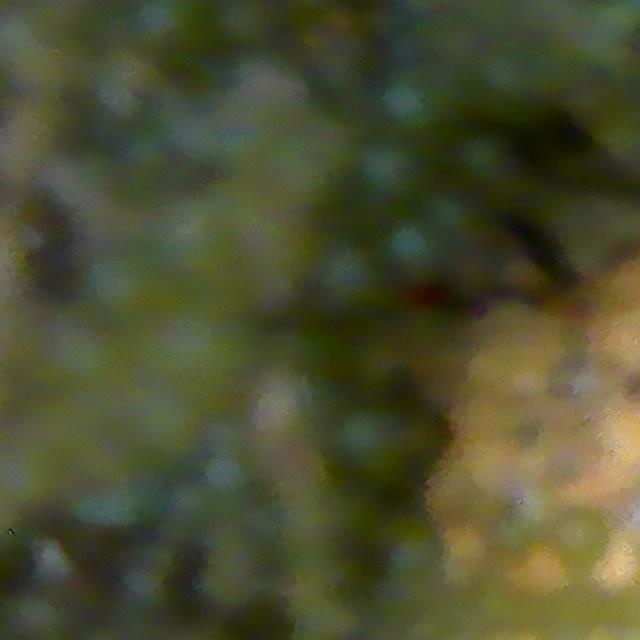SeaGrape: (334, 405, 410, 481), (311, 239, 384, 315), (452, 130, 516, 194), (358, 139, 423, 202), (131, 0, 200, 56), (384, 219, 445, 280), (380, 76, 440, 134), (554, 508, 611, 567), (213, 0, 276, 50), (101, 266, 159, 317)
